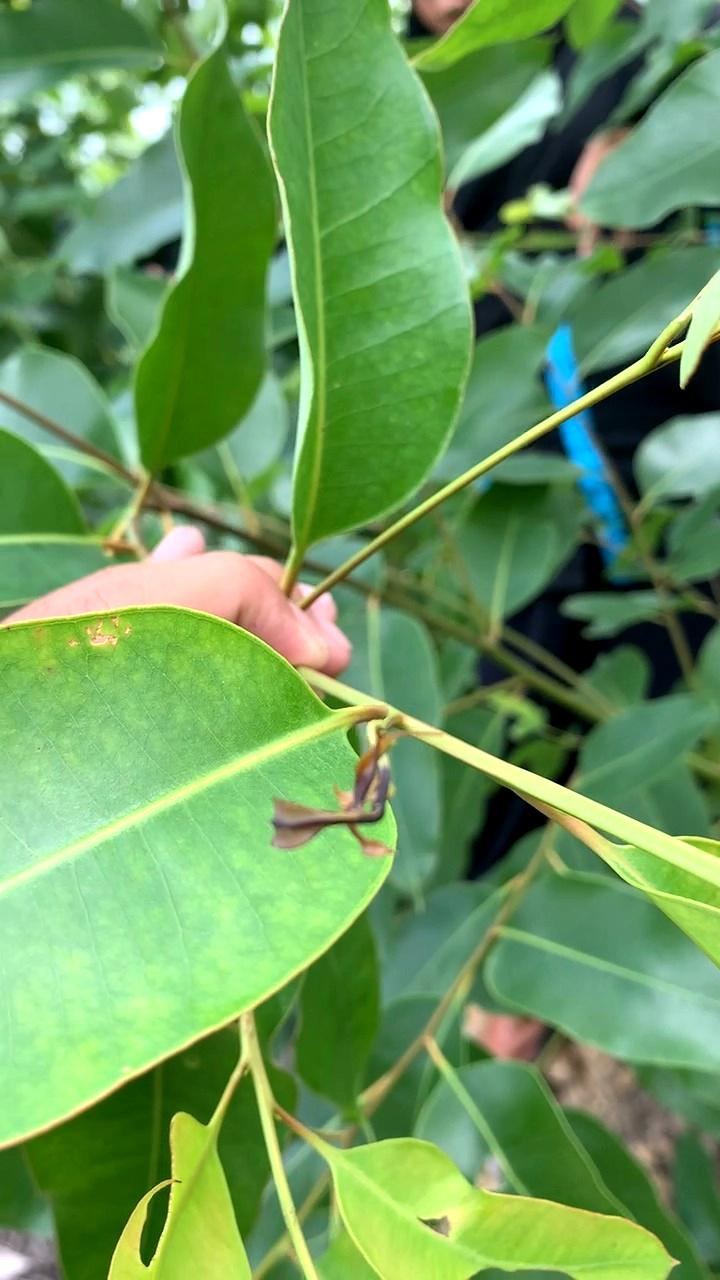Helopeltis-Withered Sprout: (276, 718, 447, 853)
